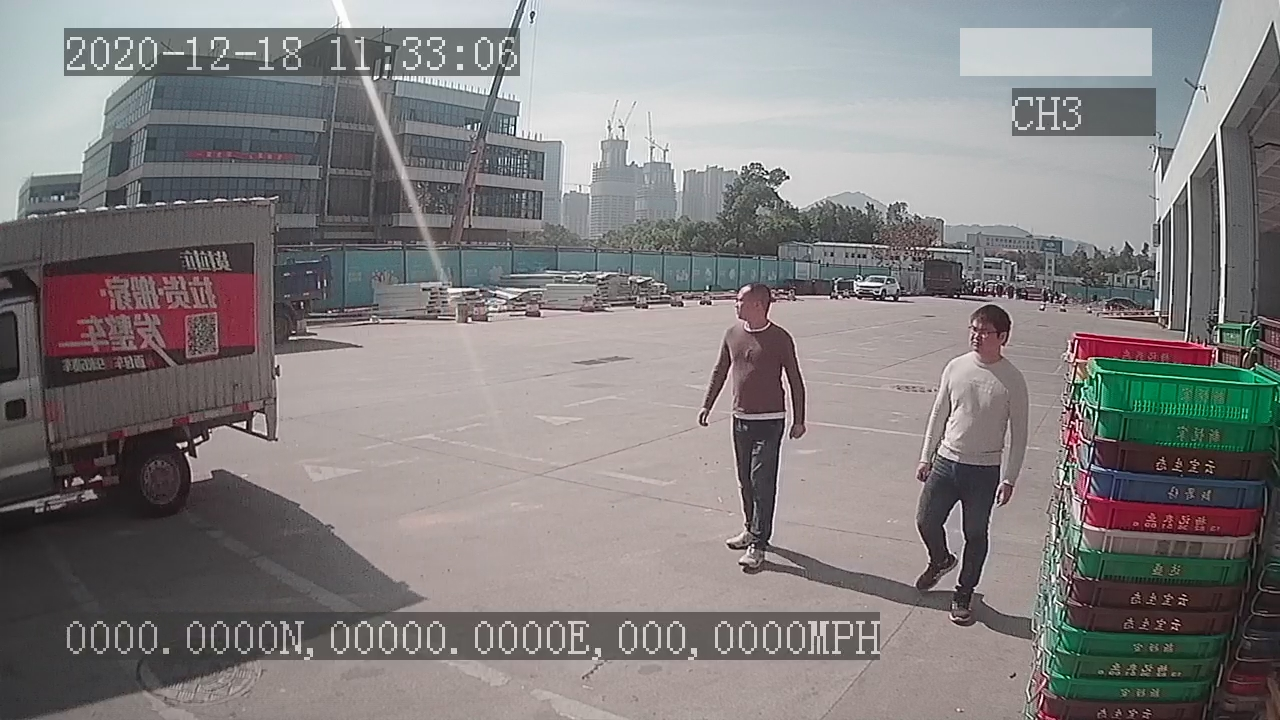person: (913, 301, 1030, 622), (697, 283, 809, 567)
